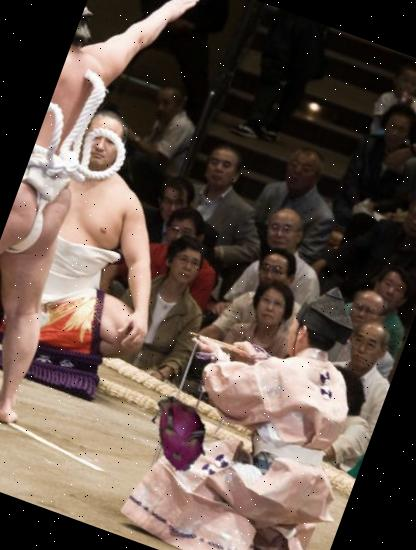Pitahaya: (129, 384, 229, 484)
